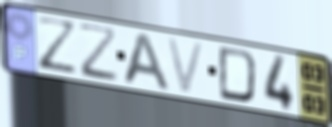4: (261, 52, 297, 113)
A: (120, 30, 173, 94)
D: (217, 44, 260, 106)
V: (164, 35, 208, 97)
Z: (75, 22, 122, 85), (34, 13, 80, 76)
